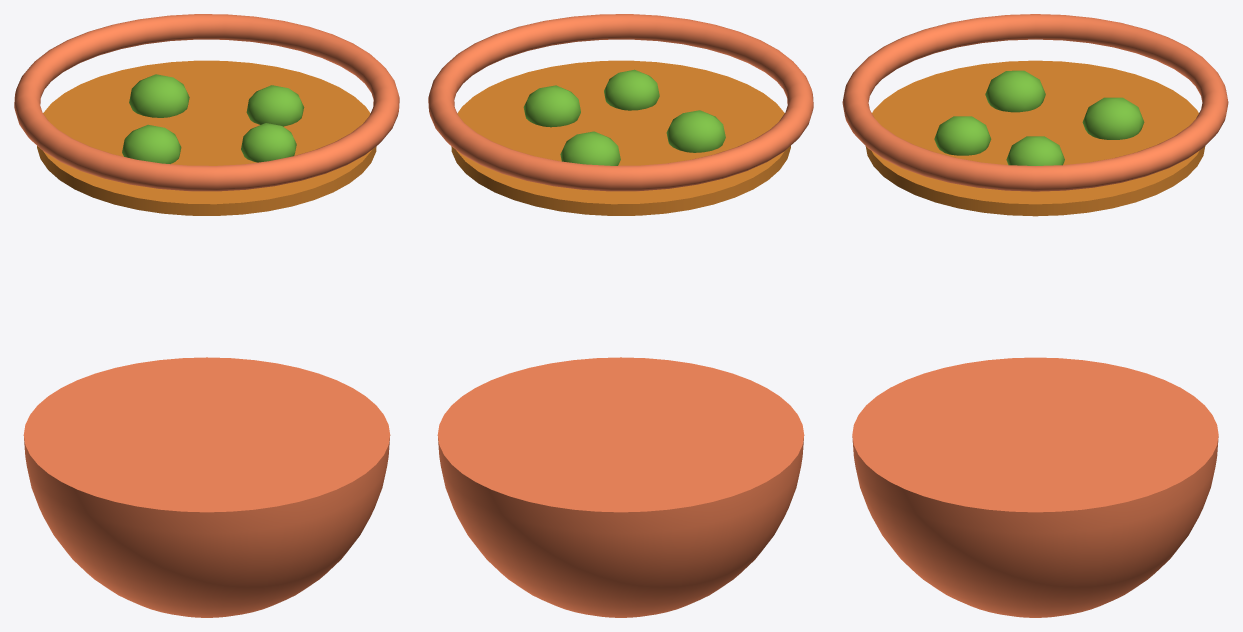
The model's file is dish_soup.glb.
3 renders of one model, left to right at view 1: azimuth 30°, elevation 25°; view 2: azimuth 150°, elevation 25°; view 3: azimuth 270°, elevation 25°, orthographic.
Parts seen in each view (by area): view 1: bowl, liquid, rim, veg.001, veg, veg.002, veg.003; view 2: bowl, liquid, rim, veg.002, veg, veg.003, veg.001; view 3: bowl, liquid, rim, veg.001, veg.002, veg.003, veg.
Boxes of the visible parts, x1=… form: bowl: x1=23, y1=357, x2=390, y2=617; liquid: x1=37, y1=60, x2=376, y2=215; rim: x1=14, y1=14, x2=399, y2=191; veg.001: x1=129, y1=74, x2=189, y2=117; veg: x1=246, y1=85, x2=304, y2=126; veg.002: x1=122, y1=124, x2=181, y2=163; veg.003: x1=241, y1=123, x2=296, y2=162; bowl: x1=437, y1=357, x2=804, y2=617; liquid: x1=451, y1=60, x2=790, y2=215; rim: x1=428, y1=14, x2=813, y2=191; veg.002: x1=666, y1=110, x2=725, y2=152; veg: x1=523, y1=85, x2=580, y2=127; veg.003: x1=604, y1=69, x2=659, y2=110; veg.001: x1=560, y1=131, x2=620, y2=165; bowl: x1=852, y1=357, x2=1218, y2=617; liquid: x1=865, y1=60, x2=1205, y2=216; rim: x1=842, y1=14, x2=1228, y2=191; veg.001: x1=1082, y1=97, x2=1144, y2=139; veg.002: x1=985, y1=70, x2=1045, y2=112; veg.003: x1=934, y1=116, x2=991, y2=155; veg: x1=1006, y1=136, x2=1064, y2=165.
Bounding box in the file's own units: 0.59 × 0.8595 × 0.59.
